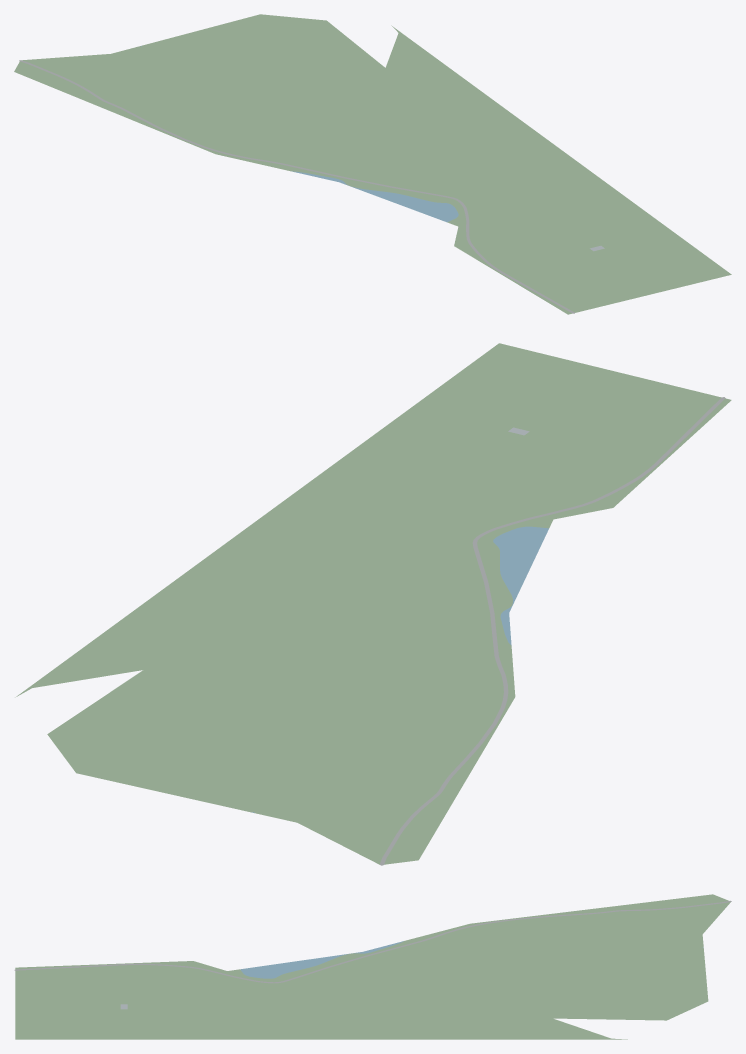
File: -17_34-known-coarse.glb
3 renders of one model, top to bottom at view 1: azimuth 30°, elevation 25°; view 2: azimuth 150°, elevation 25°; view 3: azimuth 270°, elevation 25°, orthographic. The views are drawn at different scales.
Bounding box in the file's own units: 369 × 0.15 × 771.
